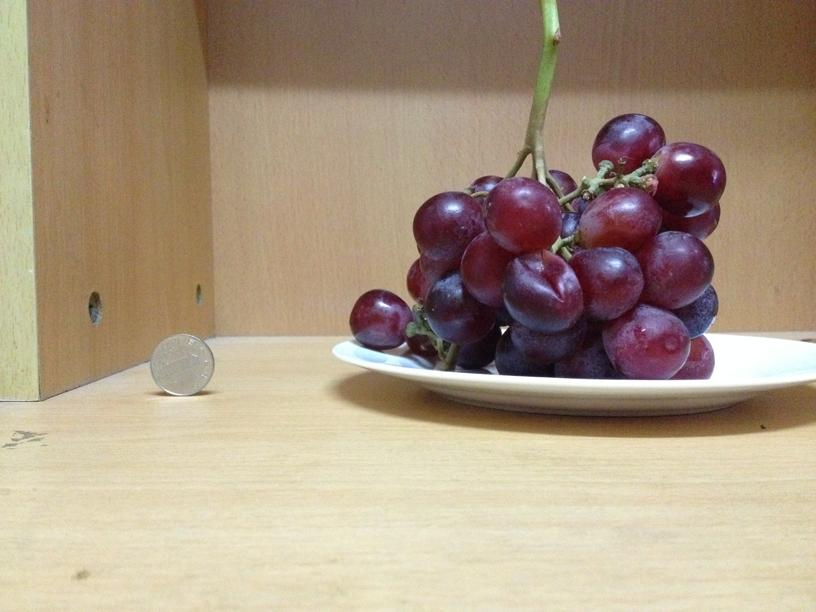coin: (147, 331, 214, 395)
grape: (352, 107, 727, 379)
